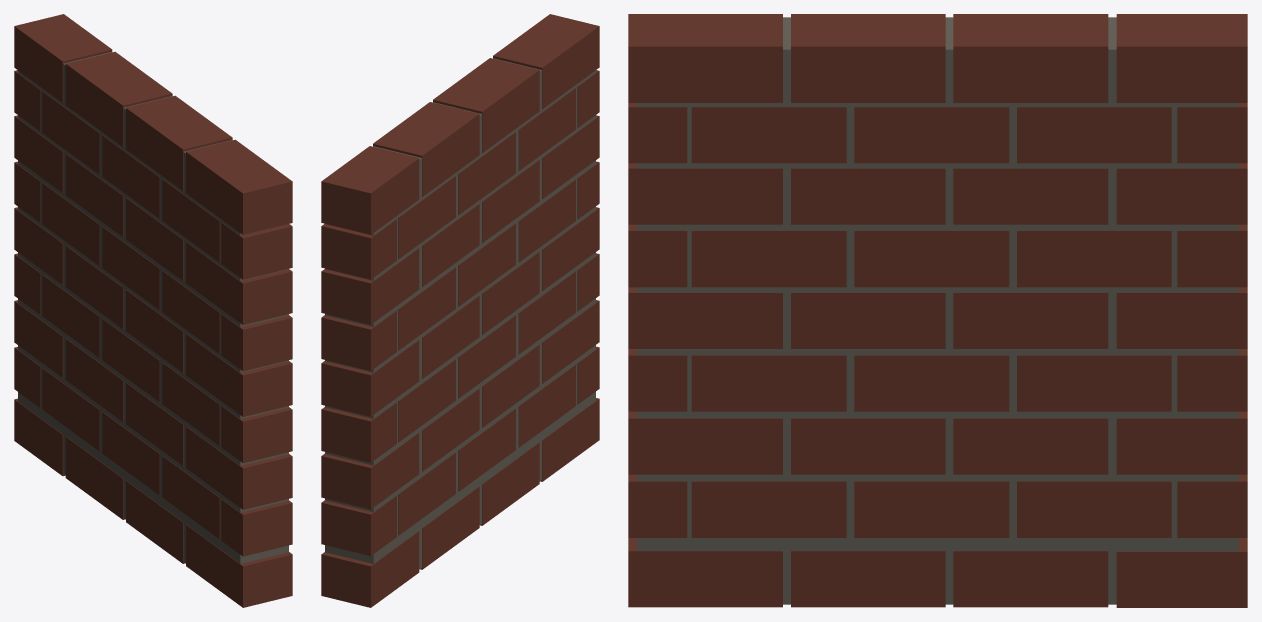
Rendered from squarebrickwall.fbx.
The picture shows the model from 3 angles, left to right: view 1: azimuth 30°, elevation 25°; view 2: azimuth 150°, elevation 25°; view 3: azimuth 270°, elevation 25°; orthographic projection. The views are drawn at different scales.
Parts seen in each view (by area): view 1: Mortar, Brick, Brick.002, Brick.001, Brick.039, Brick.030, Brick.021, Brick.012, Brick.003, Brick.022, Brick.013, Brick.008 (+29 smaller); view 2: Mortar, Brick.003, Brick.001, Brick.002, Brick, Brick.018, Brick.036, Brick.027, Brick.009, Brick.026, Brick.035, Brick.017 (+29 smaller); view 3: Mortar, Brick.002, Brick.001, Brick, Brick.003, Brick.015, Brick.014, Brick.016, Brick.039, Brick.030, Brick.033, Brick.032 (+29 smaller).
Part boxes in pixels (box(x1,y1,x2,y2)): Mortar: box(18, 52, 288, 563); Brick: box(186, 139, 292, 234); Brick.002: box(65, 51, 172, 146); Brick.001: box(126, 95, 232, 190); Brick.039: box(186, 524, 292, 607); Brick.030: box(186, 426, 292, 509); Brick.021: box(186, 333, 292, 416); Brick.012: box(186, 241, 292, 324); Brick.003: box(14, 14, 112, 102); Brick.022: box(221, 405, 292, 463); Brick.013: box(221, 314, 292, 371); Brick.008: box(221, 222, 292, 279); Mortar: box(325, 58, 595, 569); Brick.003: box(321, 146, 419, 234); Brick.001: box(433, 58, 539, 153); Brick.002: box(373, 102, 479, 197); Brick: box(493, 14, 599, 109); Brick.018: box(321, 340, 419, 416); Brick.036: box(321, 531, 419, 607); Brick.027: box(321, 433, 419, 509); Brick.009: box(321, 248, 419, 324); Brick.026: box(321, 402, 396, 462); Brick.035: box(321, 495, 396, 555); Brick.017: box(321, 310, 396, 370); Mortar: box(637, 17, 1238, 604); Brick.002: box(953, 14, 1108, 102); Brick.001: box(791, 14, 945, 102); Brick: box(628, 14, 782, 102); Brick.003: box(1116, 14, 1247, 102); Brick.015: box(854, 230, 1009, 287); Brick.014: box(691, 230, 846, 287); Brick.016: box(1017, 230, 1171, 287); Brick.039: box(628, 538, 782, 607); Brick.030: box(628, 411, 782, 474); Brick.033: box(854, 481, 1009, 537); Brick.032: box(691, 481, 846, 537).
Size of the model in its own units: 50 by 400 by 400.
